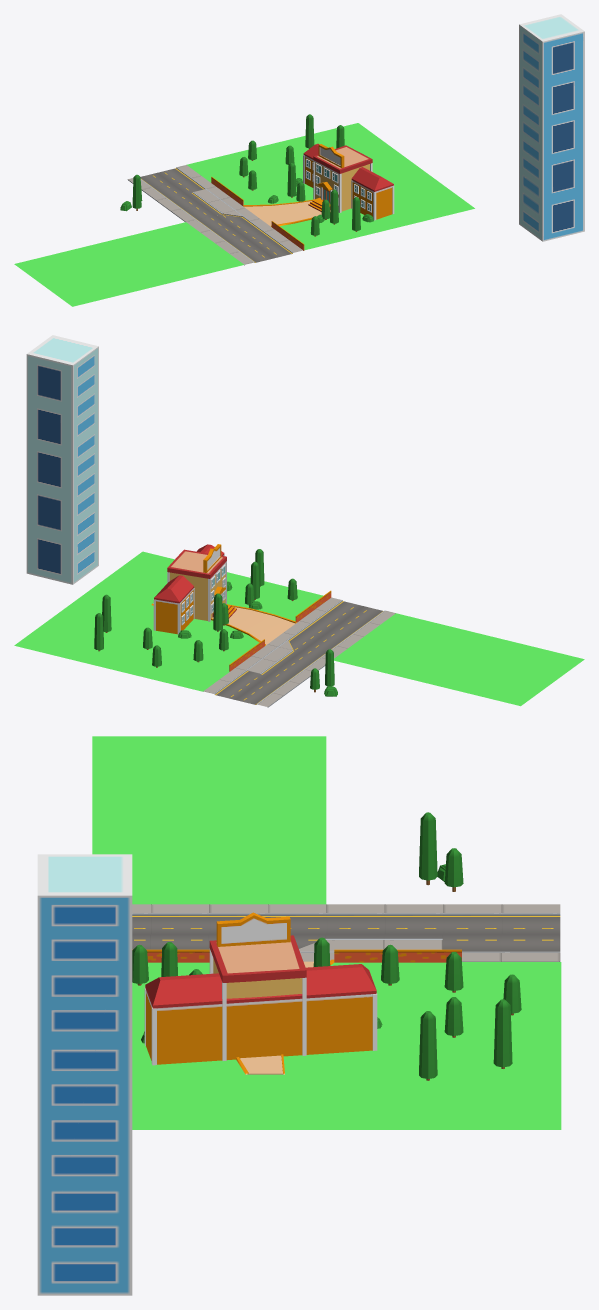
Rendered from School_v05.fbx.
3 renders of one model, top to bottom at view 1: azimuth 30°, elevation 25°; view 2: azimuth 150°, elevation 25°; view 3: azimuth 270°, elevation 25°, orthographic. The views are drawn at different scales.
Parts seen in each view (by area): view 1: School2, pCube11, Road2, Road1; view 2: School2, pCube11, Road2, Road1; view 3: School2, pCube11, Road2, Road1, Tree1.
Part boxes in pixels (bbox=[...]): School2: bbox=[14, 114, 474, 306]; pCube11: bbox=[519, 14, 584, 241]; Road2: bbox=[127, 165, 244, 221]; Road1: bbox=[186, 208, 303, 265]; School2: bbox=[14, 544, 584, 706]; pCube11: bbox=[26, 335, 98, 584]; Road2: bbox=[203, 640, 325, 707]; Road1: bbox=[267, 597, 395, 658]; School2: bbox=[92, 736, 561, 1129]; pCube11: bbox=[37, 854, 132, 1295]; Road2: bbox=[299, 904, 560, 961]; Road1: bbox=[132, 904, 326, 961]; Tree1: bbox=[419, 812, 437, 885].
Bounding box in the file's own units: 19705 × 7552 × 8961.
